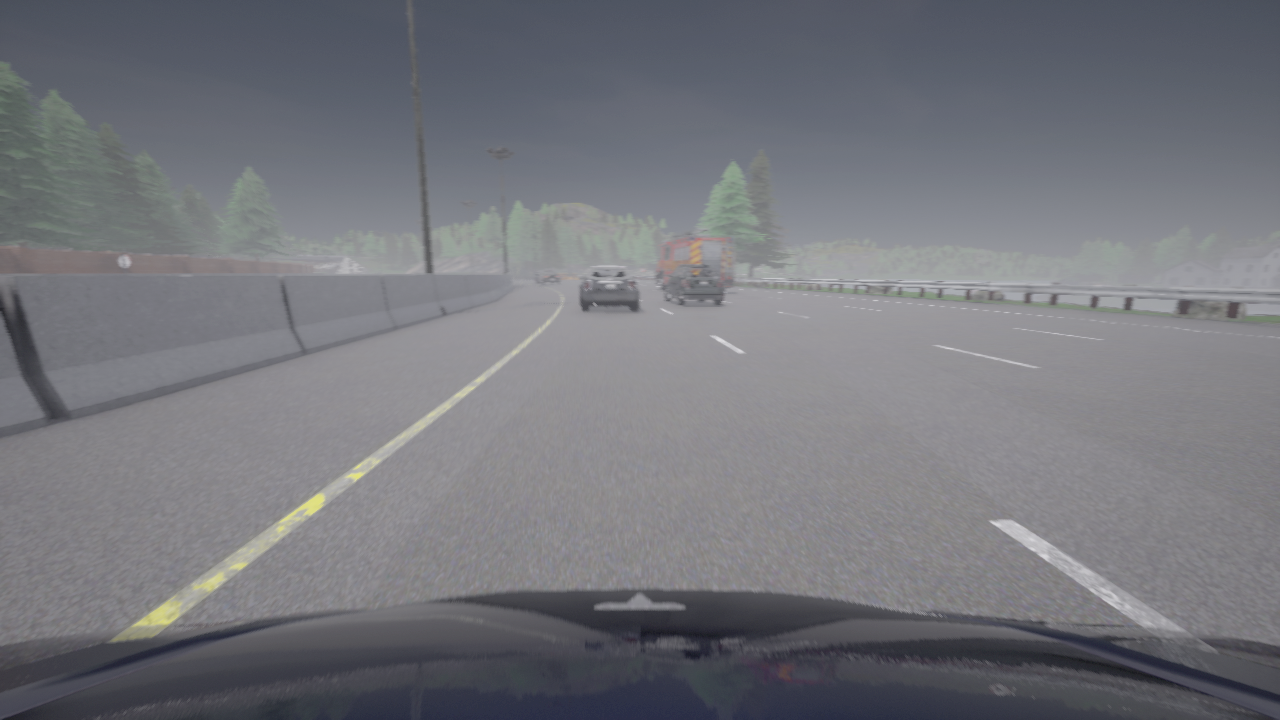cyclist: (0, 588, 1279, 719), (654, 228, 734, 290), (578, 265, 638, 312), (665, 265, 723, 305), (537, 270, 560, 284), (535, 274, 536, 279)
